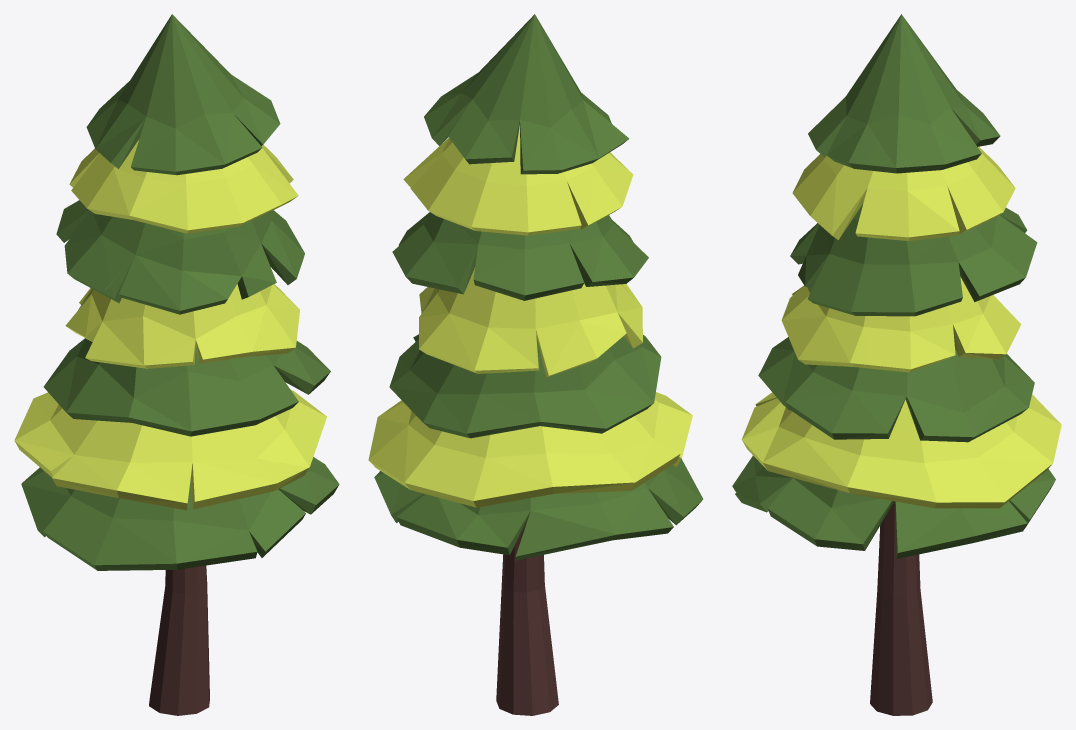
Rendered from Conifer Tree_5.fbx.
3 views of the same model, side by side, from view 1: azimuth 30°, elevation 25°; view 2: azimuth 150°, elevation 25°; view 3: azimuth 270°, elevation 25° (orthographic).
Visible parts, largest first — view 1: Conifer Tree_5; view 2: Conifer Tree_5; view 3: Conifer Tree_5.
Boxes of the visible parts, x1,y1,x2,y2 form: Conifer Tree_5: [14, 14, 339, 715]; Conifer Tree_5: [368, 14, 703, 715]; Conifer Tree_5: [732, 14, 1061, 715].
Size of the model in its own units: 2.39 by 5.65 by 2.46.
